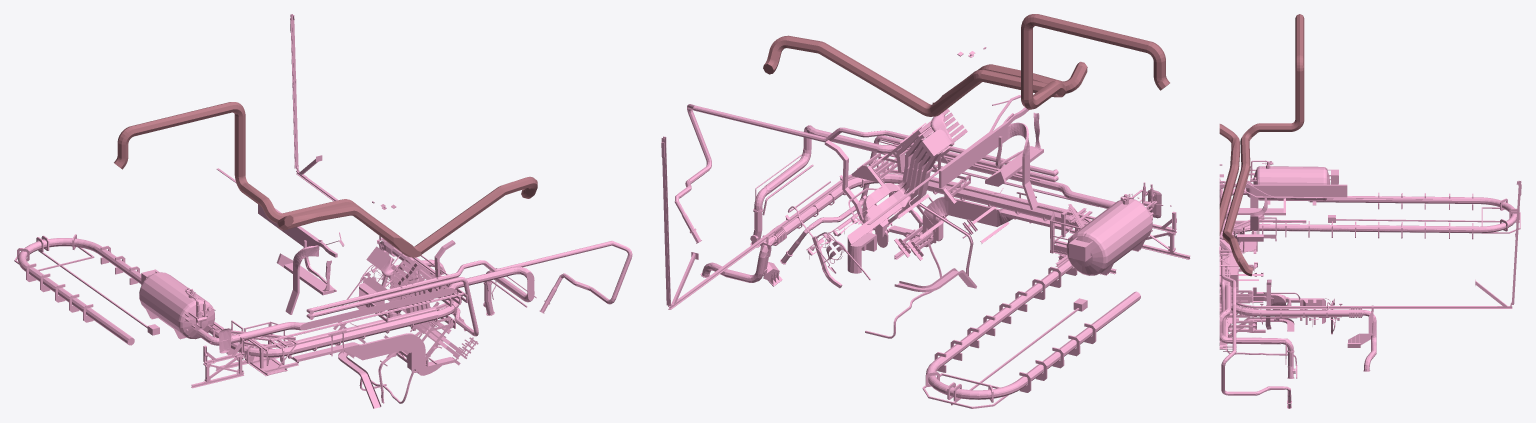
Rendered from Serv-Z0-Sec7-cut1.glb.
3 renders of one model, left to right at view 1: azimuth 30°, elevation 25°; view 2: azimuth 150°, elevation 25°; view 3: azimuth 270°, elevation 25°, orthographic. The views are drawn at different scales.
Parts seen in each view (by area): view 1: Serv-Z0-Sec7-cut1, Serv-Z0-Sec7-vent-cut1; view 2: Serv-Z0-Sec7-cut1, Serv-Z0-Sec7-vent-cut1; view 3: Serv-Z0-Sec7-cut1, Serv-Z0-Sec7-vent-cut1.
Part boxes in pixels (left/top/right/bottom): Serv-Z0-Sec7-cut1: left=14, top=14, right=632, bottom=408; Serv-Z0-Sec7-vent-cut1: left=114, top=102, right=537, bottom=257; Serv-Z0-Sec7-cut1: left=661, top=47, right=1190, bottom=408; Serv-Z0-Sec7-vent-cut1: left=763, top=14, right=1169, bottom=116; Serv-Z0-Sec7-cut1: left=1219, top=160, right=1521, bottom=408; Serv-Z0-Sec7-vent-cut1: left=1219, top=14, right=1304, bottom=276.
Size of the model in its own units: 19.43 by 12.59 by 13.15.
